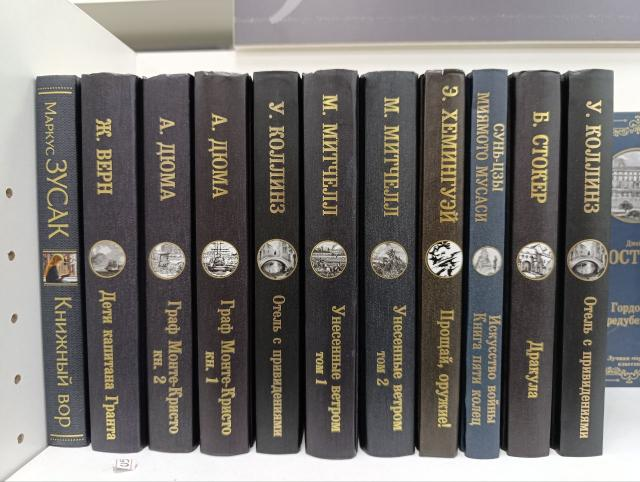book-s-spine: (81, 74, 140, 453), (560, 68, 614, 458), (304, 70, 357, 459), (195, 72, 248, 455), (508, 70, 560, 458), (366, 71, 417, 458), (36, 75, 87, 448), (144, 73, 193, 453), (419, 70, 464, 458), (254, 72, 298, 454), (465, 69, 508, 459)
